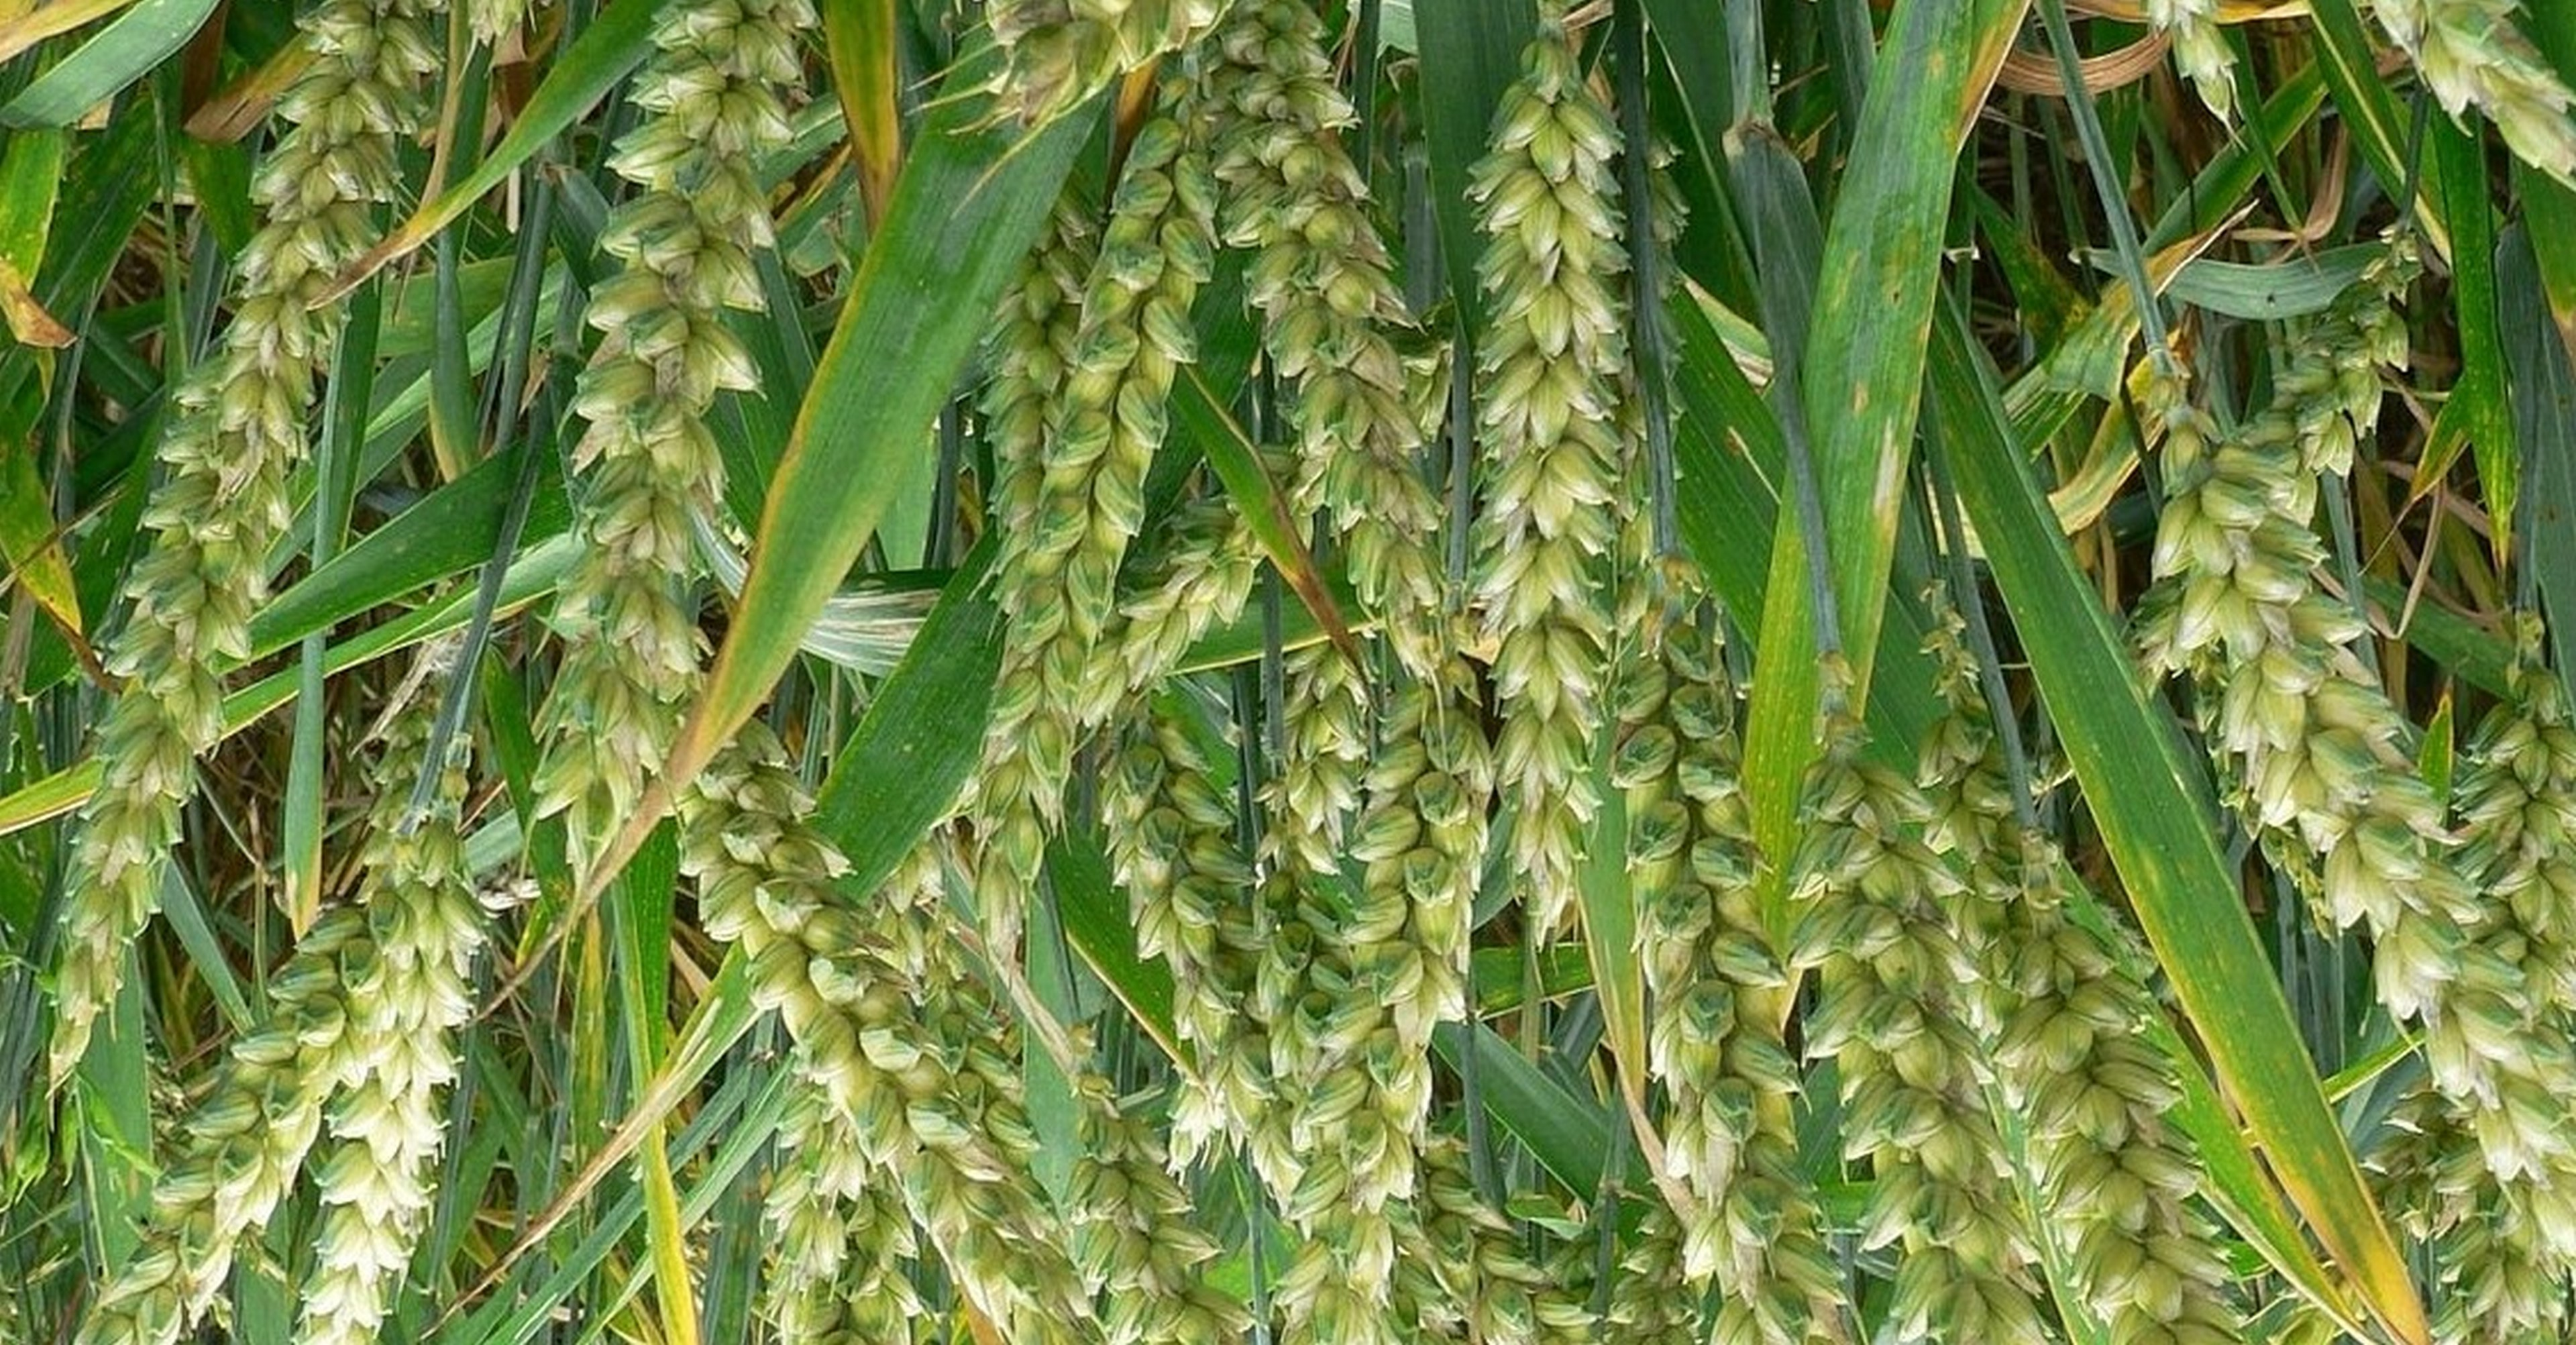Healthy Wheat: (969, 22, 1440, 847), (526, 0, 811, 772), (1458, 36, 1661, 938)
